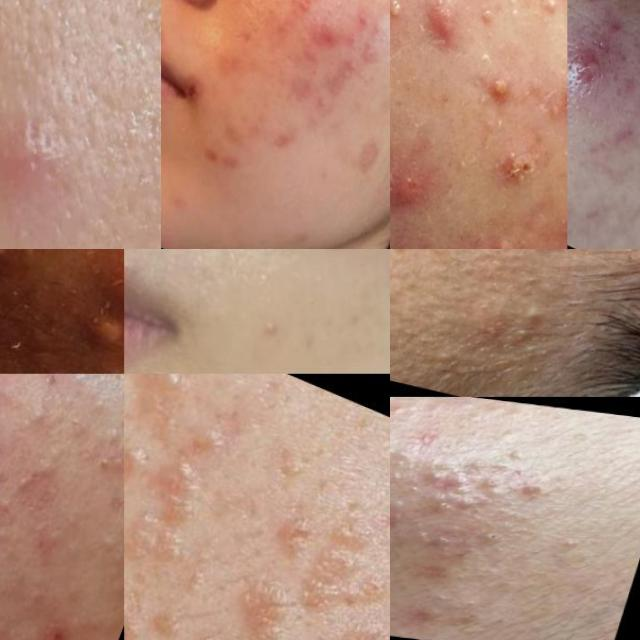acne_scars: (197, 140, 250, 181), (268, 119, 312, 167), (350, 137, 387, 181), (578, 30, 625, 64), (369, 249, 390, 314), (411, 558, 457, 581)
comedone: (62, 392, 124, 484), (234, 292, 300, 361), (8, 389, 59, 445), (331, 53, 374, 113), (424, 490, 492, 519), (6, 461, 48, 507), (462, 0, 509, 37), (81, 380, 118, 420), (521, 0, 567, 32), (14, 585, 48, 621), (477, 524, 521, 550), (94, 531, 124, 566), (516, 299, 547, 329), (446, 471, 479, 496), (390, 495, 413, 525), (390, 445, 426, 462), (292, 0, 321, 21), (58, 538, 78, 568), (505, 444, 534, 464), (432, 534, 461, 553), (400, 480, 430, 498), (567, 0, 579, 27), (0, 461, 10, 493), (390, 402, 409, 418), (0, 404, 7, 439), (482, 476, 499, 490)
cystic: (568, 38, 622, 132), (76, 301, 124, 368)
flat_wart: (261, 496, 390, 640), (124, 427, 220, 590), (242, 461, 345, 580), (211, 560, 304, 640), (124, 374, 218, 436), (134, 586, 198, 640), (165, 605, 251, 640), (320, 604, 390, 640), (124, 563, 154, 640)
papule: (0, 67, 89, 249), (390, 104, 469, 238), (534, 56, 568, 145), (300, 5, 350, 62), (340, 0, 382, 36), (361, 44, 386, 81), (512, 479, 549, 501), (411, 605, 439, 625), (580, 0, 610, 11), (454, 245, 497, 249)
pustule: (466, 47, 534, 132), (390, 0, 422, 46)
sebo-crystan-conglo: (406, 0, 487, 83), (477, 124, 552, 213), (390, 162, 442, 233), (101, 250, 124, 347)
